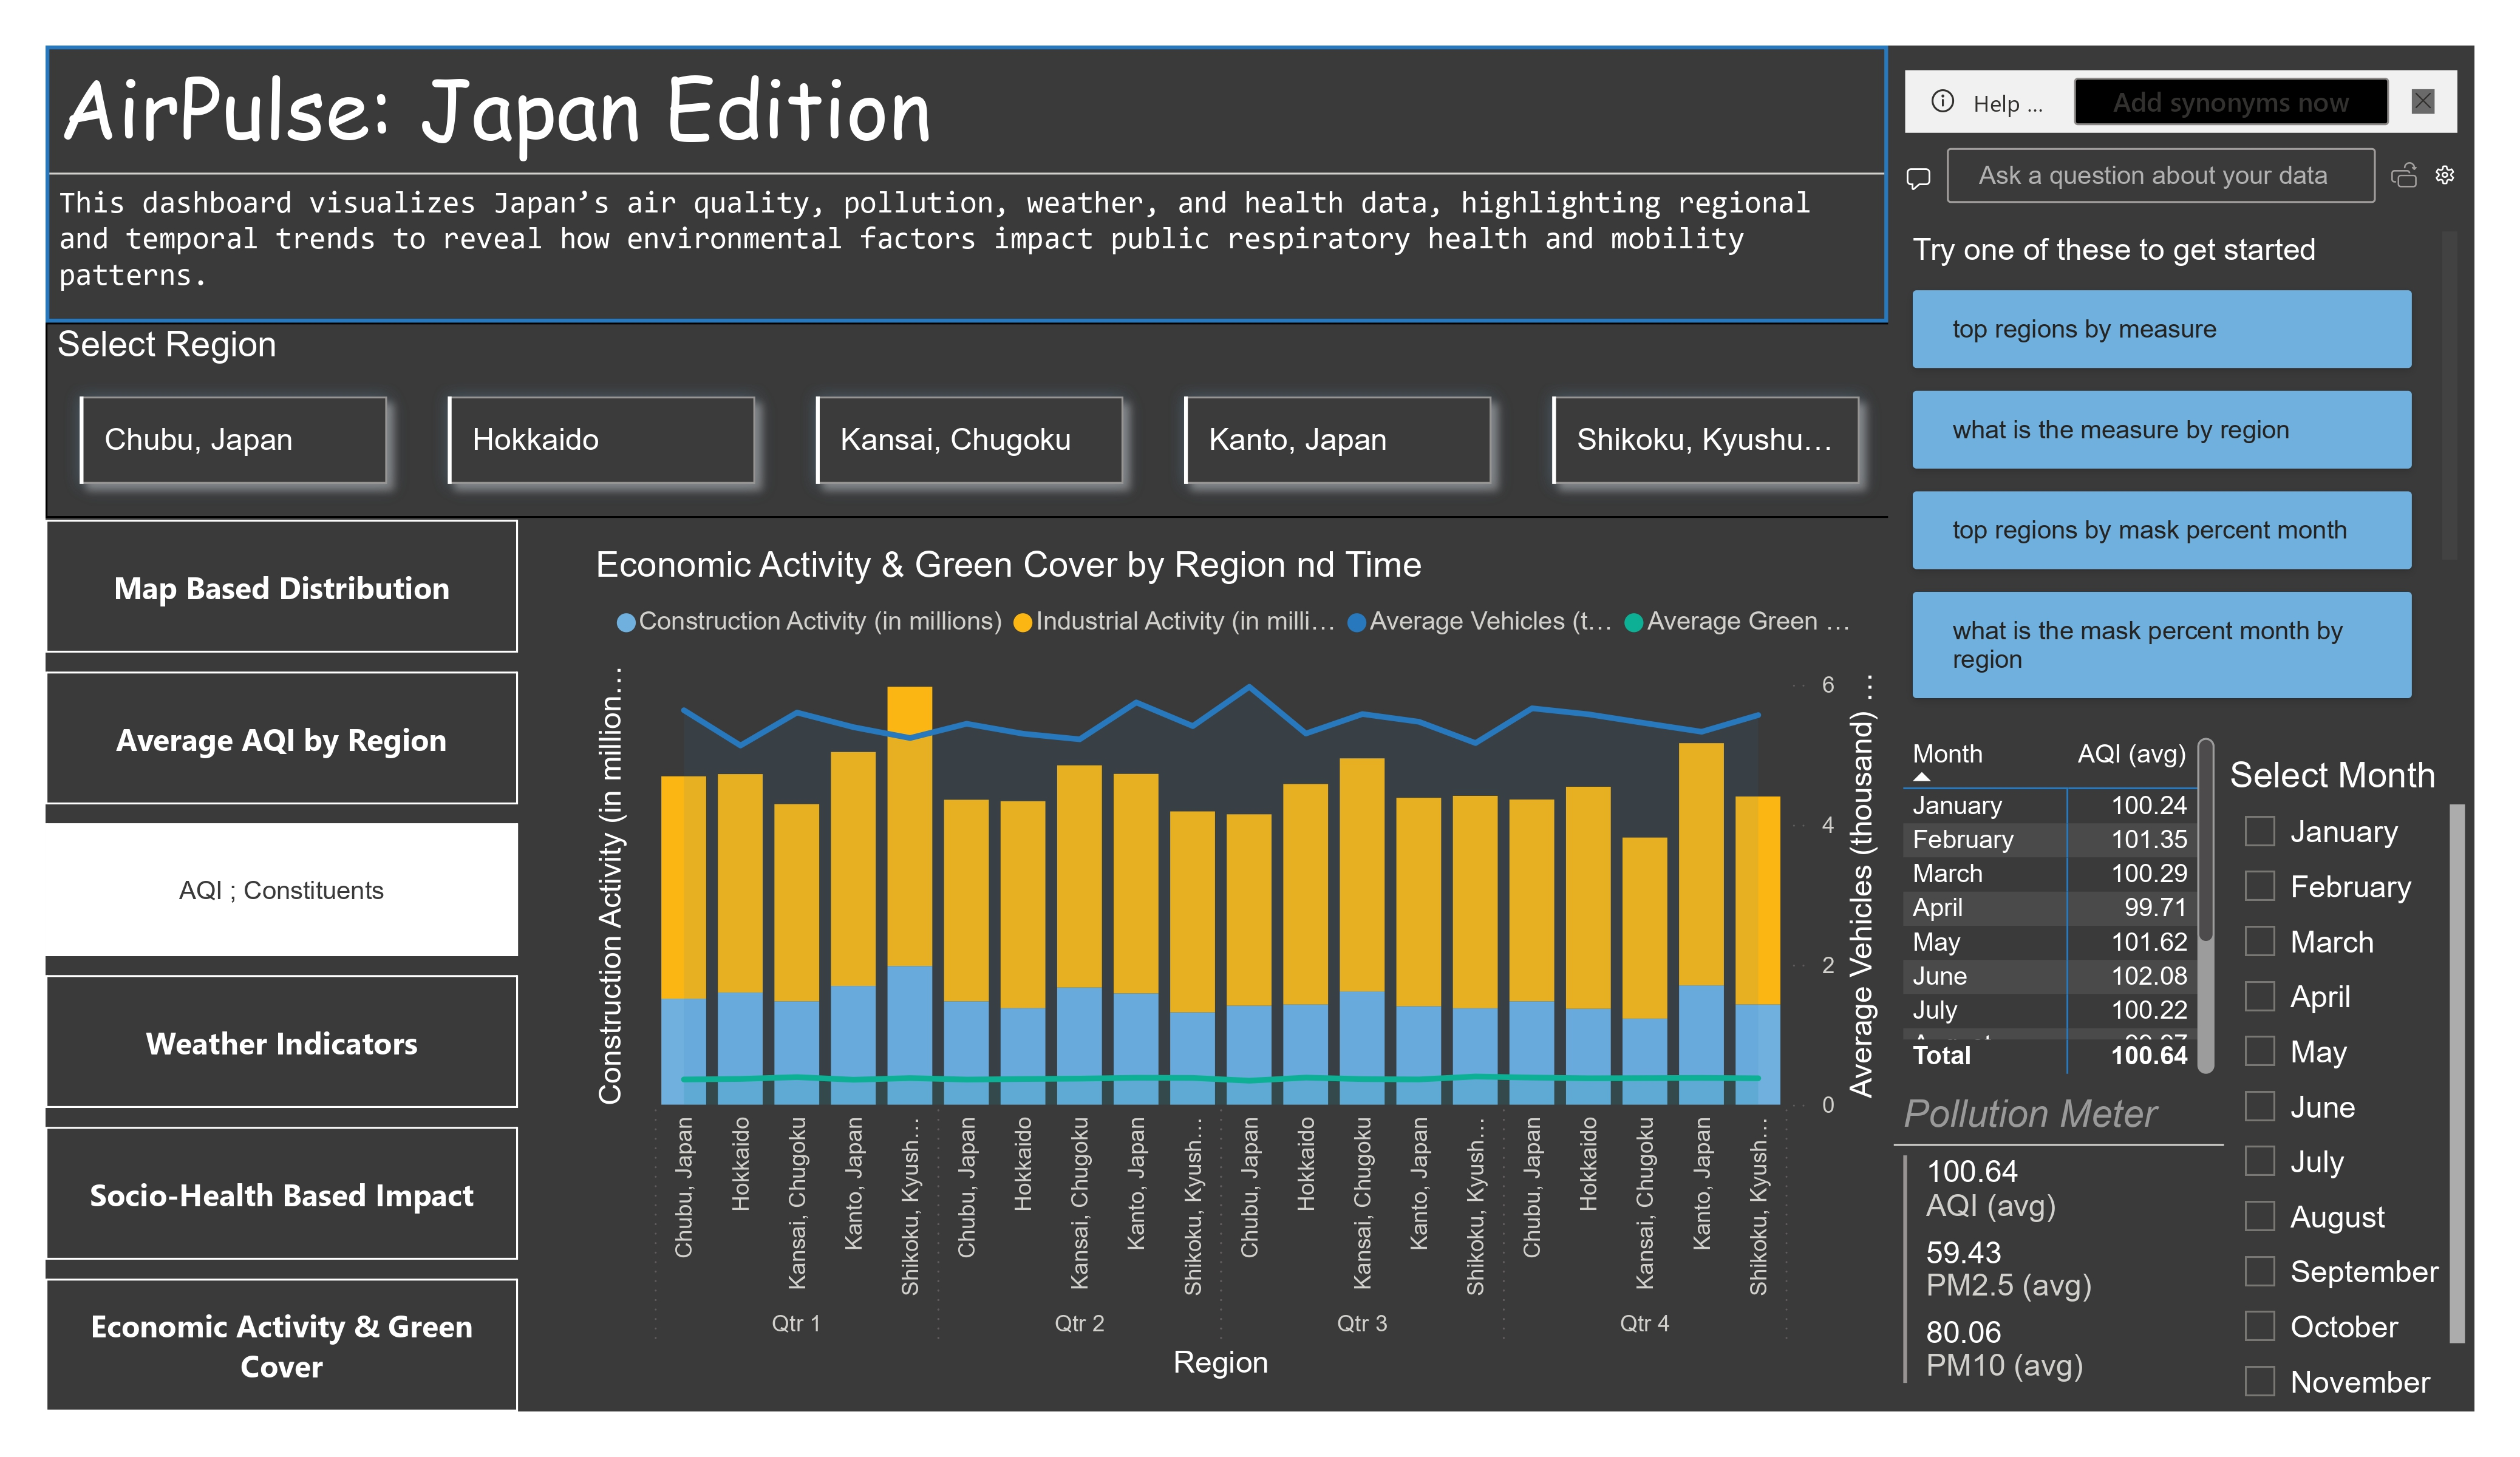

What the dashboard file says about the page in this screenshot:
{"tool":"powerbi","page":{"name":"Economic Activity & Green Cover ","canvas":[1280,720],"ordinal":5},"visuals":[{"type":"lineStackedColumnComboChart","title":"Economic Activity & Green Cover by Region nd Time","fields":{"Y":["Sum(air_quality_health_dataset.Construction Activity (in millions))","Sum(air_quality_health_dataset.Industrial Activity (in millions))"],"Category":["air_quality_health_dataset.Date.Variation.Date Hierarchy.Quarter","air_quality_health_dataset.Region"],"Y2":["Avg(air_quality_health_dataset.Vehicles (thousand))","Avg(air_quality_health_dataset.Green Cover Percentage)"]},"box":[285.2,263,685.9,445.2],"z":0},{"type":"advancedSlicerVisual","title":"Select Region","fields":{"Values":["air_quality_health_dataset.Region"]},"box":[0,145.7,974.3,102.9],"z":1000},{"type":"slicer","title":"Select Month","fields":{"Values":["air_quality_health_dataset.Date.Variation.Date Hierarchy.Month"]},"box":[1145.7,374.3,134.3,345.7],"z":2000},{"type":"qnaVisual","box":[971.4,0,308.6,360],"z":3000},{"type":"textbox","title":"AirPulse: Japan Edition","box":[0,0,971.4,145.7],"z":4000},{"type":"multiRowCard","title":"Pollution Meter","fields":{"Values":["Avg(air_quality_health_dataset.AQI)","Avg(air_quality_health_dataset.PM2.5)","Avg(air_quality_health_dataset.PM10)"]},"box":[973.9,551.7,173.9,168.3],"z":5000},{"type":"pivotTable","fields":{"Values":["Avg(air_quality_health_dataset.AQI)"],"Rows":["air_quality_health_dataset.Date.Variation.Date Hierarchy.Month"]},"box":[973.9,360.3,173.9,186.4],"z":6000},{"type":"bookmarkNavigator","box":[0,250.4,249,470.3],"z":8000}]}

Visuals, with their boxes on the page's 1280x720 design canvas (x1, y1, x2, y2). These are canvas units, not pixel positions in the 2520x1457 screenshot, which may show the page scaled, cropped or inside an application window:
"Economic Activity & Green Cover by Region nd Time" lineStackedColumnComboChart: locate(285, 263, 971, 708)
"Select Region" advancedSlicerVisual: locate(0, 146, 974, 249)
"Select Month" slicer: locate(1146, 374, 1280, 720)
qnaVisual: locate(971, 0, 1280, 360)
"AirPulse: Japan Edition" textbox: locate(0, 0, 971, 146)
"Pollution Meter" multiRowCard: locate(974, 552, 1148, 720)
pivotTable - Avg(air_quality_health_dataset.AQI) x air_quality_health_dataset.Date.Variation.Date Hierarchy.Month: locate(974, 360, 1148, 547)
bookmarkNavigator: locate(0, 250, 249, 721)
